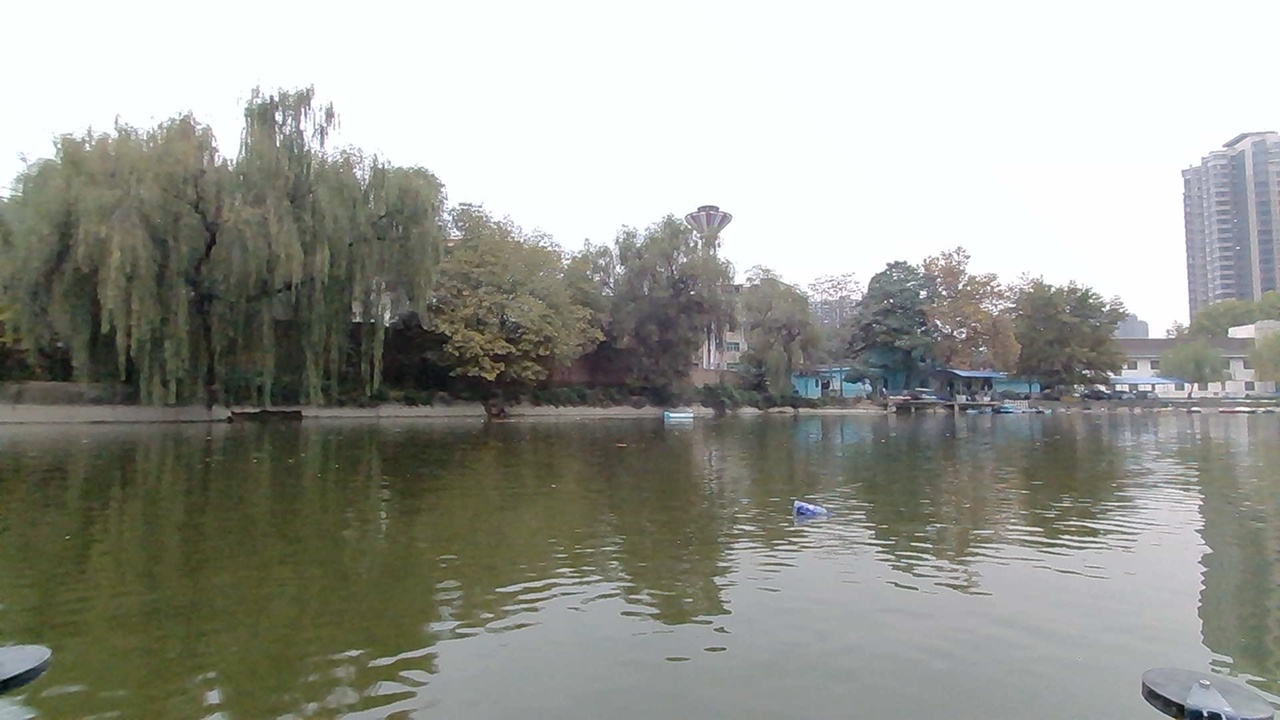bottle: (790, 496, 835, 530)
